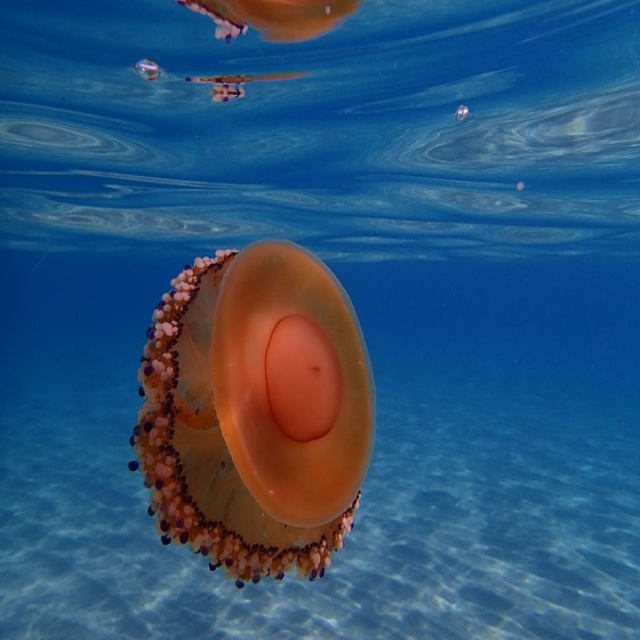Jellyfish: (122, 221, 390, 602)
